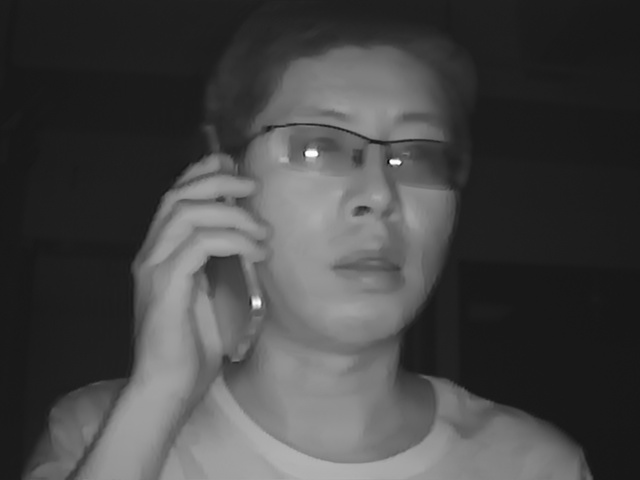hand: (125, 164, 268, 391)
